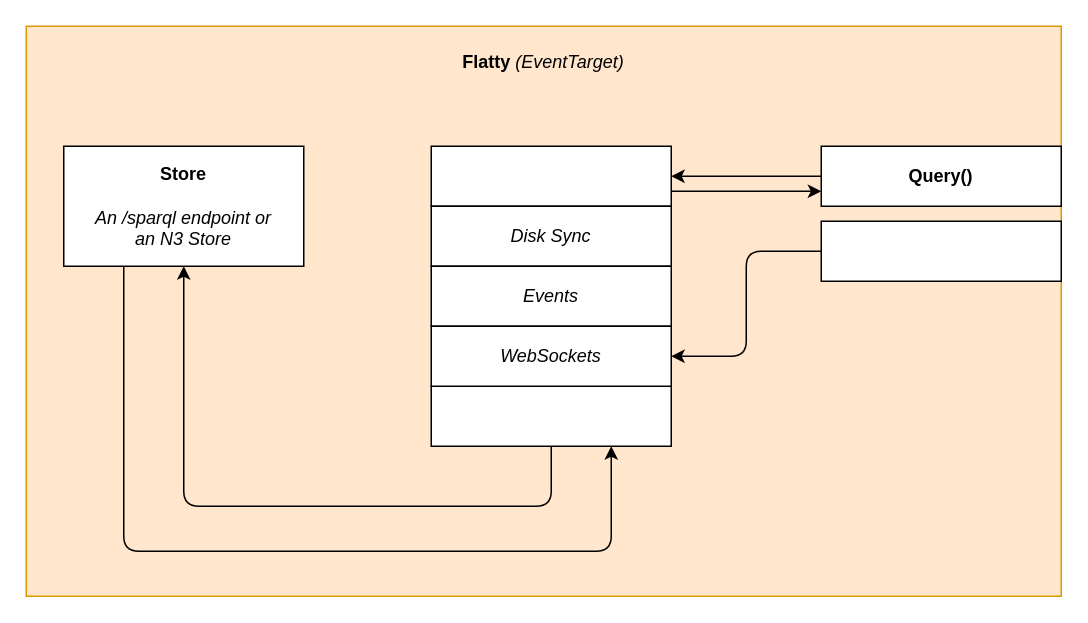
Some shapes in this 1088 by 623 pixel diagram are drawn without their labels. The centre of each missing label's shape, as x and y in pixels:
"Execute" goes at (550,415).
"Middleware Chain" goes at (550,175).
"Subscribe()" goes at (940,250).
